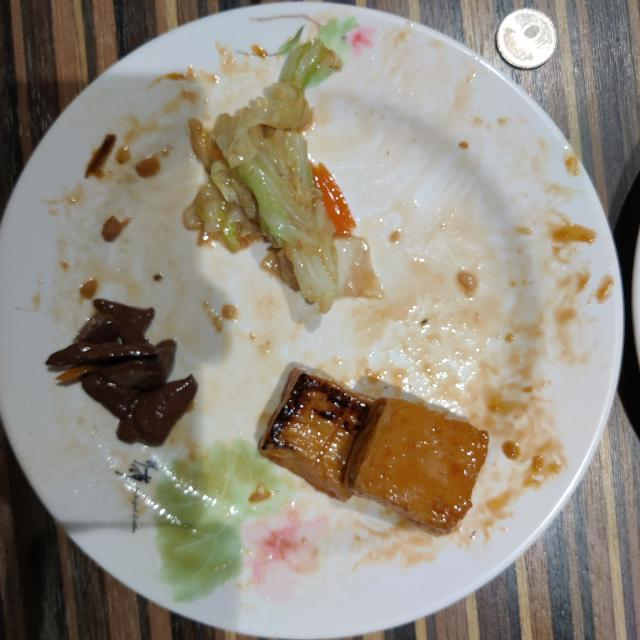cabbage: (184, 39, 380, 312)
coin: (496, 9, 556, 69)
creamy tofu: (259, 369, 489, 534)
pig blood curd: (46, 299, 198, 446)
